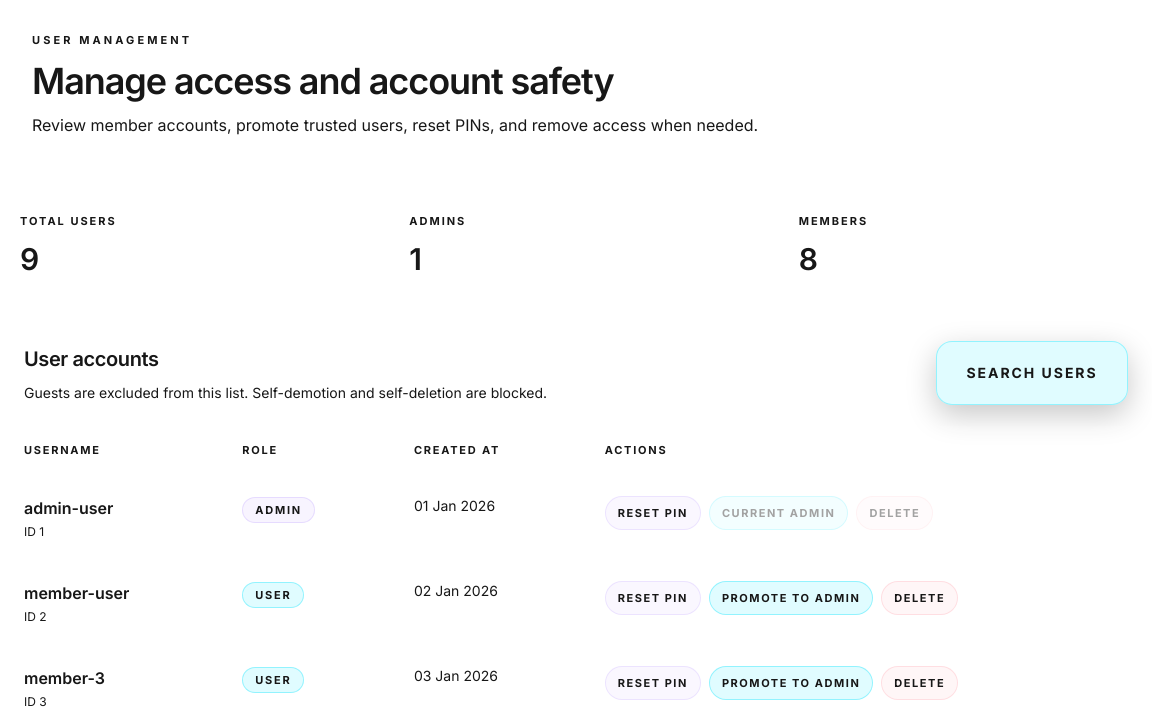
Test: AdminUsersPage › updates the role in local state after a successful promote action
Check: the text "member-user" is shown, box top-left (24, 582), bottom-right (129, 602)
Click the button "Promote to Admin" in the row of "member-user" at (791, 598), box top-left (709, 580), bottom-right (873, 615)
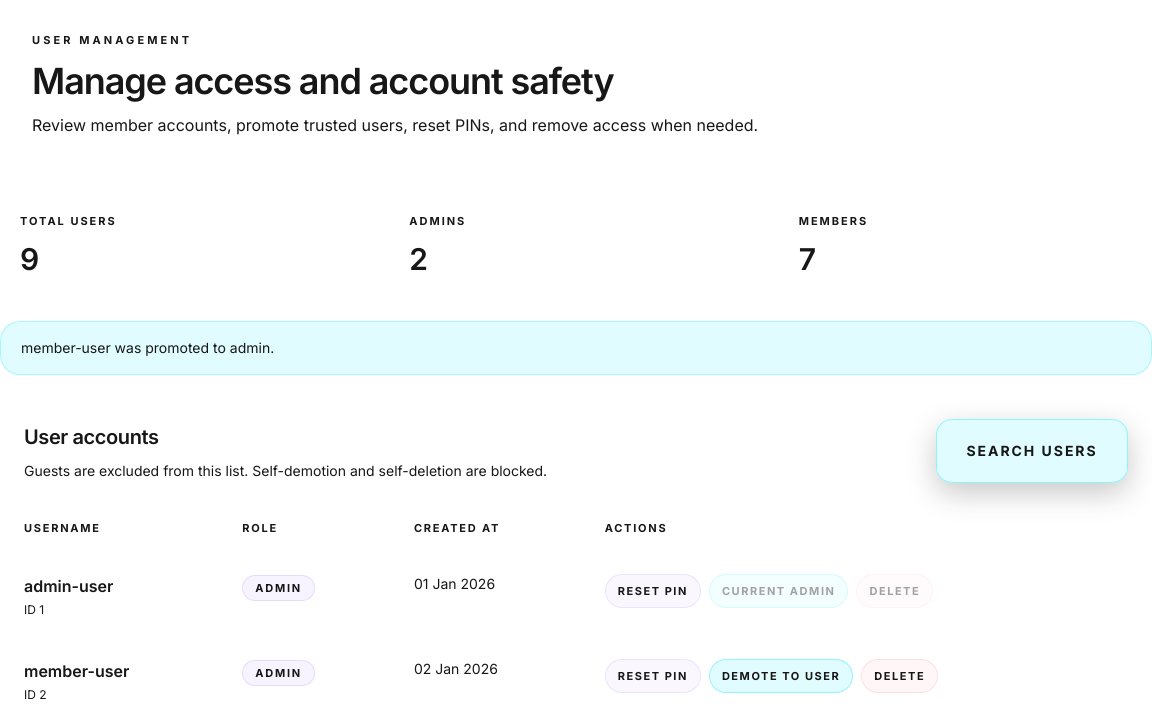
Check: the text "member-user was promoted to admin." is shown, box top-left (0, 321), bottom-right (1151, 375)
Check: the button "Demote to User" is shown, box top-left (709, 658), bottom-right (853, 693)
